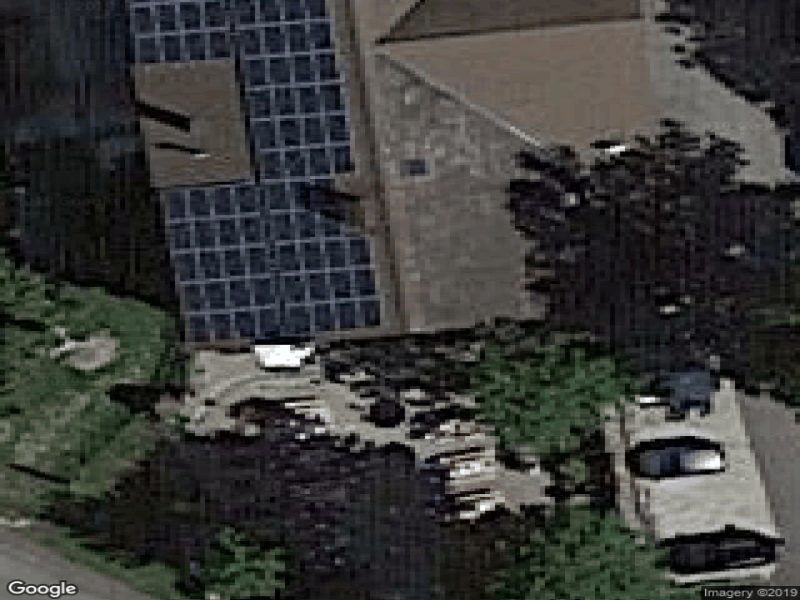pv: (129, 1, 387, 335)
